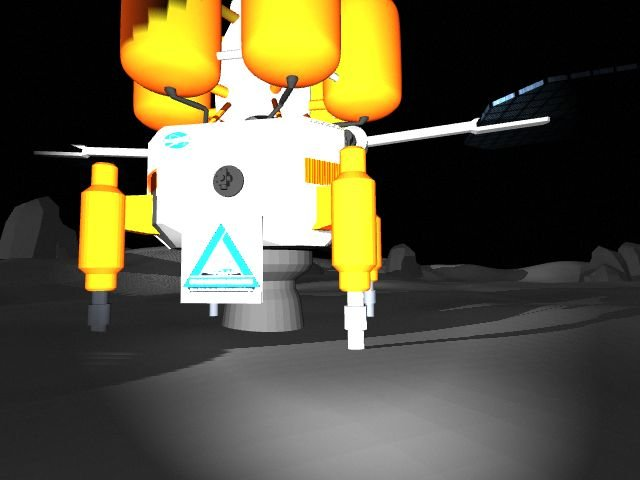basemarker: (182, 224, 263, 294)
